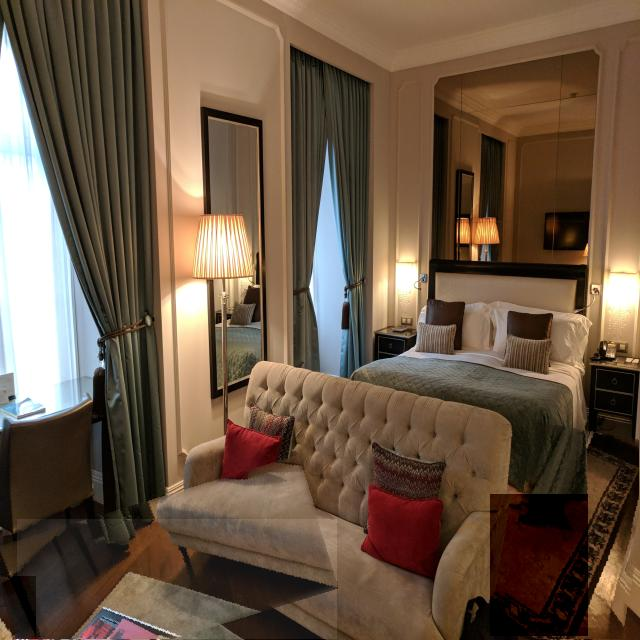floor: (18, 519, 337, 640), (501, 434, 640, 640), (491, 494, 588, 636), (0, 576, 36, 640)
